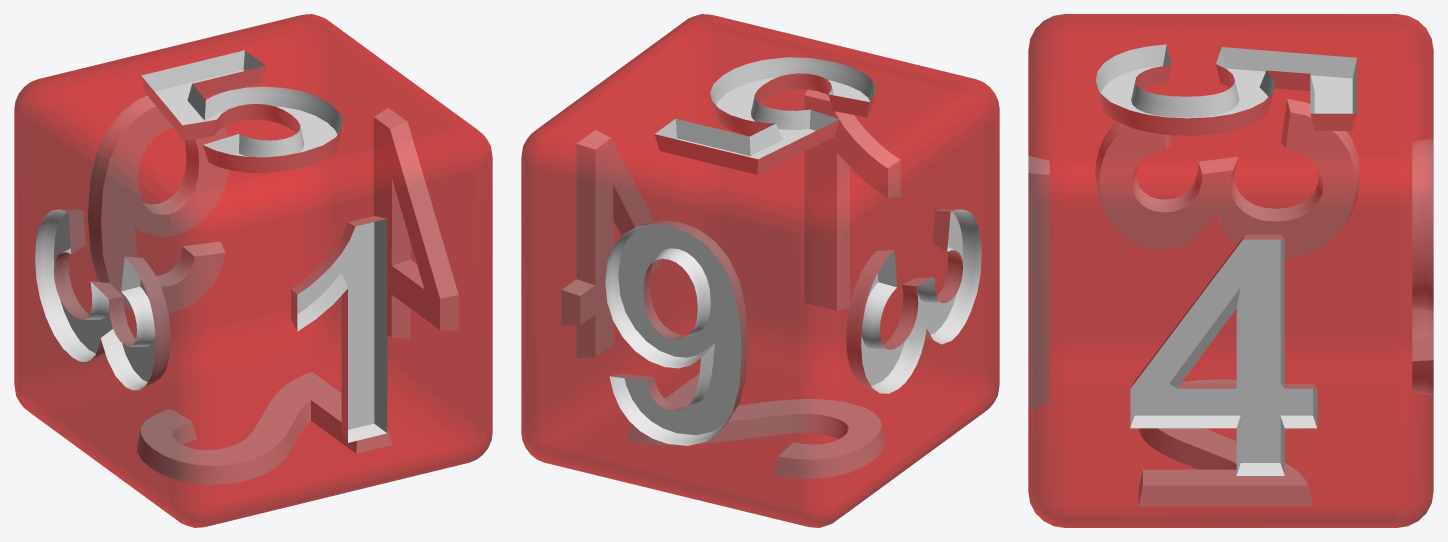
File: d6_numbers_square.fbx
The picture shows the model from 3 angles, left to right: view 1: azimuth 30°, elevation 25°; view 2: azimuth 150°, elevation 25°; view 3: azimuth 270°, elevation 25°; orthographic projection. The views are drawn at different scales.
Parts seen in each view (by area): view 1: export.005; view 2: export.005; view 3: export.005.
Part boxes in pixels (x1,y1,x2,y2): export.005: (14,14,492,527); export.005: (521,14,999,527); export.005: (1028,14,1433,527).
Bounding box in the file's own units: 0.0417 × 0.0417 × 0.0417.
